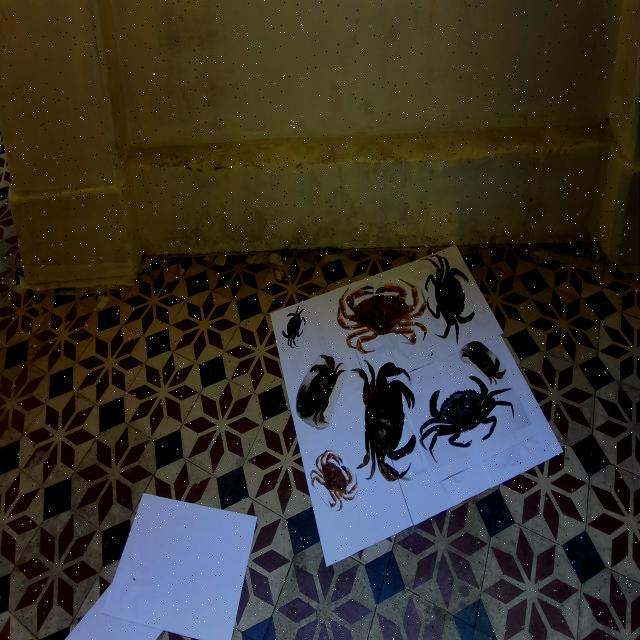European_Green_Crab: (413, 355, 518, 471), (420, 239, 478, 357), (280, 298, 308, 354)
